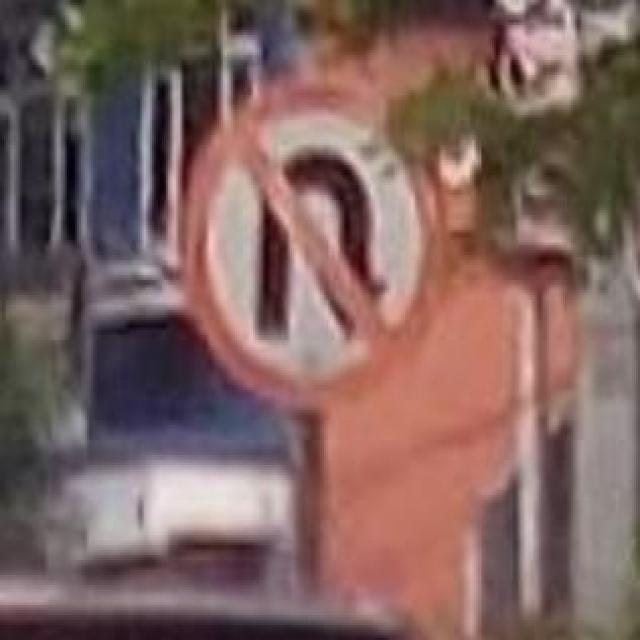traffic sign: (193, 93, 448, 406)
